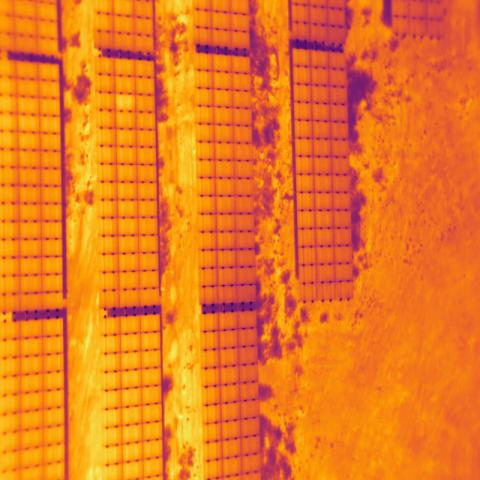fault: (115, 92, 137, 114)
